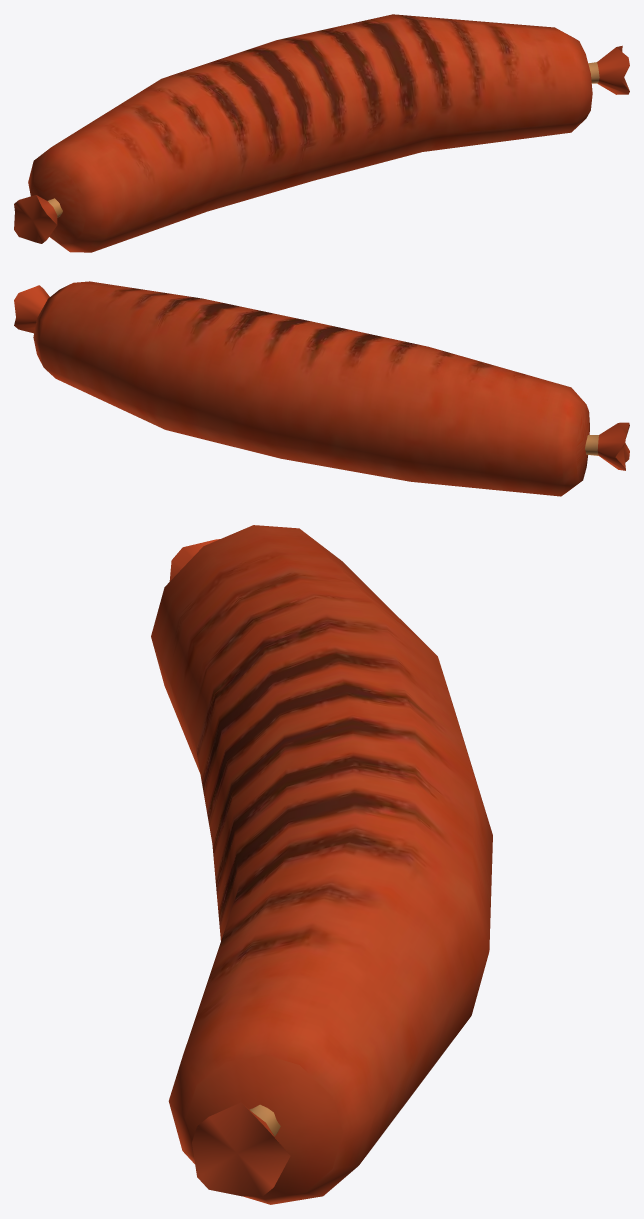
File: pm-sausage.glb
3 renders of one model, top to bottom at view 1: azimuth 30°, elevation 25°; view 2: azimuth 150°, elevation 25°; view 3: azimuth 270°, elevation 25°, orthographic. The views are drawn at different scales.
Parts seen in each view (by area): view 1: Sausage; view 2: Sausage; view 3: Sausage.
Part boxes in pixels (left/top/right/bottom): Sausage: left=14, top=14, right=629, bottom=252; Sausage: left=14, top=281, right=629, bottom=496; Sausage: left=151, top=525, right=492, bottom=1204.
Size of the model in its own units: 1.33 by 0.2718 by 0.3262.
1 material, 1 textured.
